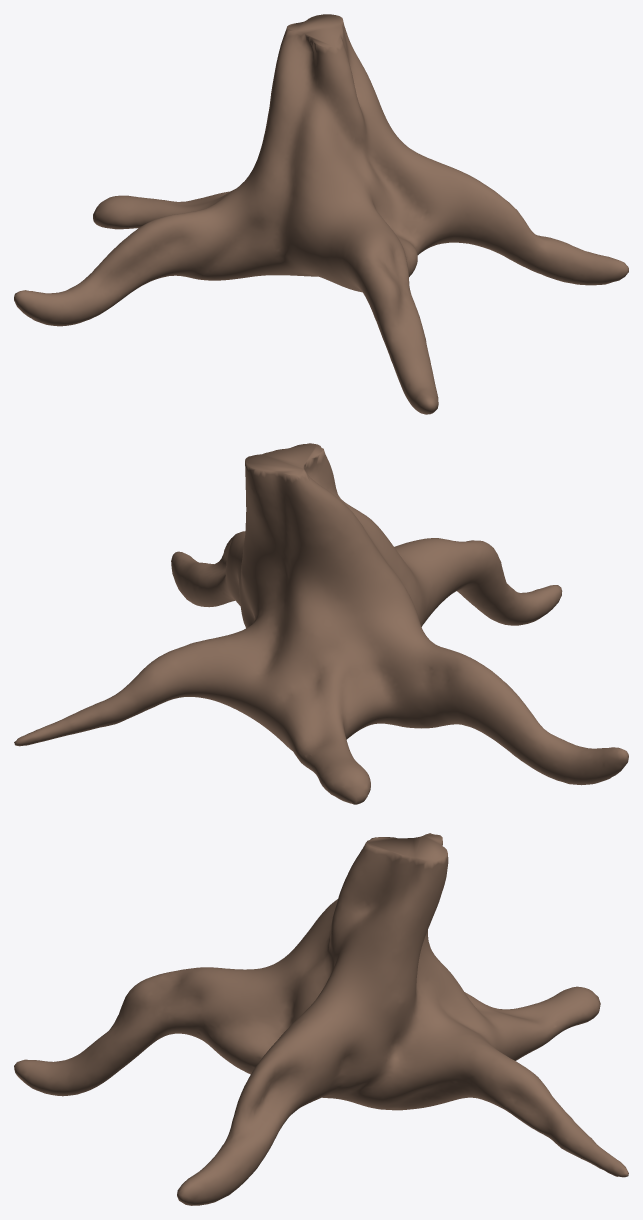
File: treeSecondStage.glb
3 views of the same model, one above another, from view 1: azimuth 30°, elevation 25°; view 2: azimuth 150°, elevation 25°; view 3: azimuth 270°, elevation 25° (orthographic). The views are drawn at different scales.
Parts seen in each view (by area): view 1: Cube.009; view 2: Cube.009; view 3: Cube.009.
Boxes of the visible parts, x1,y1,x2,y2 form: Cube.009: [14, 14, 628, 414]; Cube.009: [14, 443, 628, 804]; Cube.009: [14, 833, 628, 1205].
Bounding box in the file's own units: 7.68 × 3.57 × 7.15.
